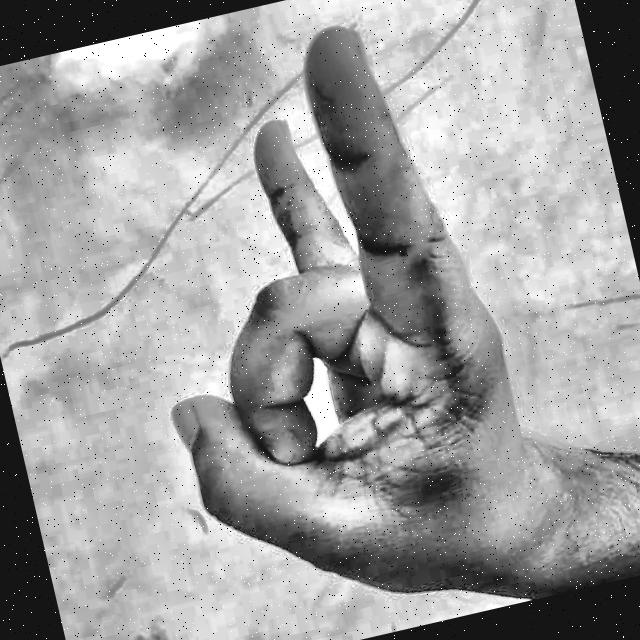Cha: (49, 0, 606, 640)
